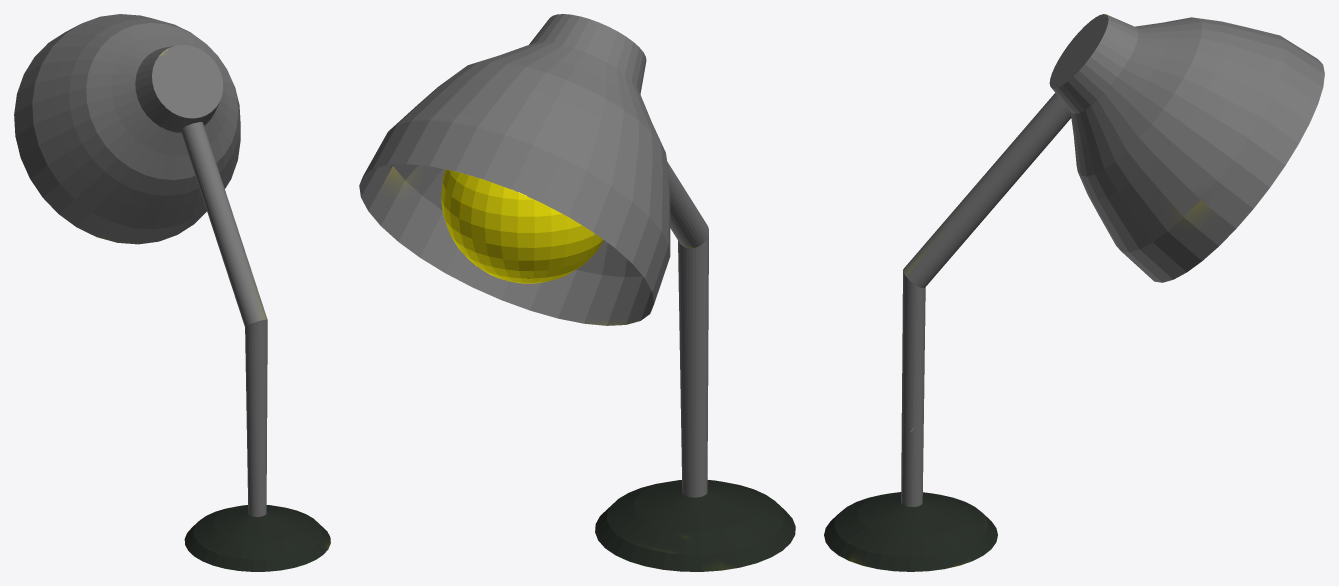
The model's file is Lampara.obj.
3 views of the same model, side by side, from view 1: azimuth 30°, elevation 25°; view 2: azimuth 150°, elevation 25°; view 3: azimuth 270°, elevation 25° (orthographic). The views are drawn at different scales.
Visible parts, largest first — view 1: Cylinder.001; view 2: Cylinder.001; view 3: Cylinder.001.
Boxes of the visible parts, left/top/right/bottom form: Cylinder.001: left=14, top=14, right=330, bottom=571; Cylinder.001: left=359, top=14, right=795, bottom=571; Cylinder.001: left=824, top=14, right=1324, bottom=571.
Size of the model in its own units: 1.91 by 3.93 by 3.46.
Materials: 1 (1 with a texture image).
